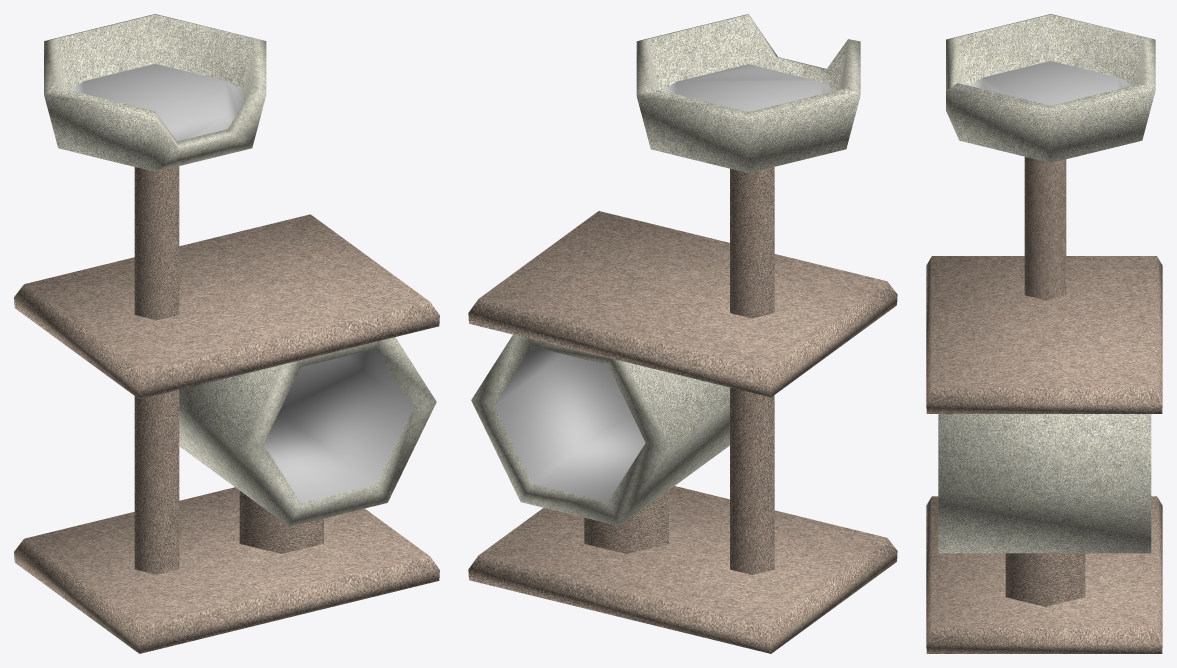
The model's file is Kitty_Tree_A.FBX.
The picture shows the model from 3 angles, left to right: view 1: azimuth 30°, elevation 25°; view 2: azimuth 150°, elevation 25°; view 3: azimuth 270°, elevation 25°; orthographic projection. The views are drawn at different scales.
Parts seen in each view (by area): view 1: Kitty Tree; view 2: Kitty Tree; view 3: Kitty Tree.
Part boxes in pixels (box(x1,y1,x2,y2)): Kitty Tree: box(14, 14, 439, 653); Kitty Tree: box(468, 14, 897, 653); Kitty Tree: box(926, 14, 1162, 653).
Size of the model in its own units: 119 by 178 by 77.38.
